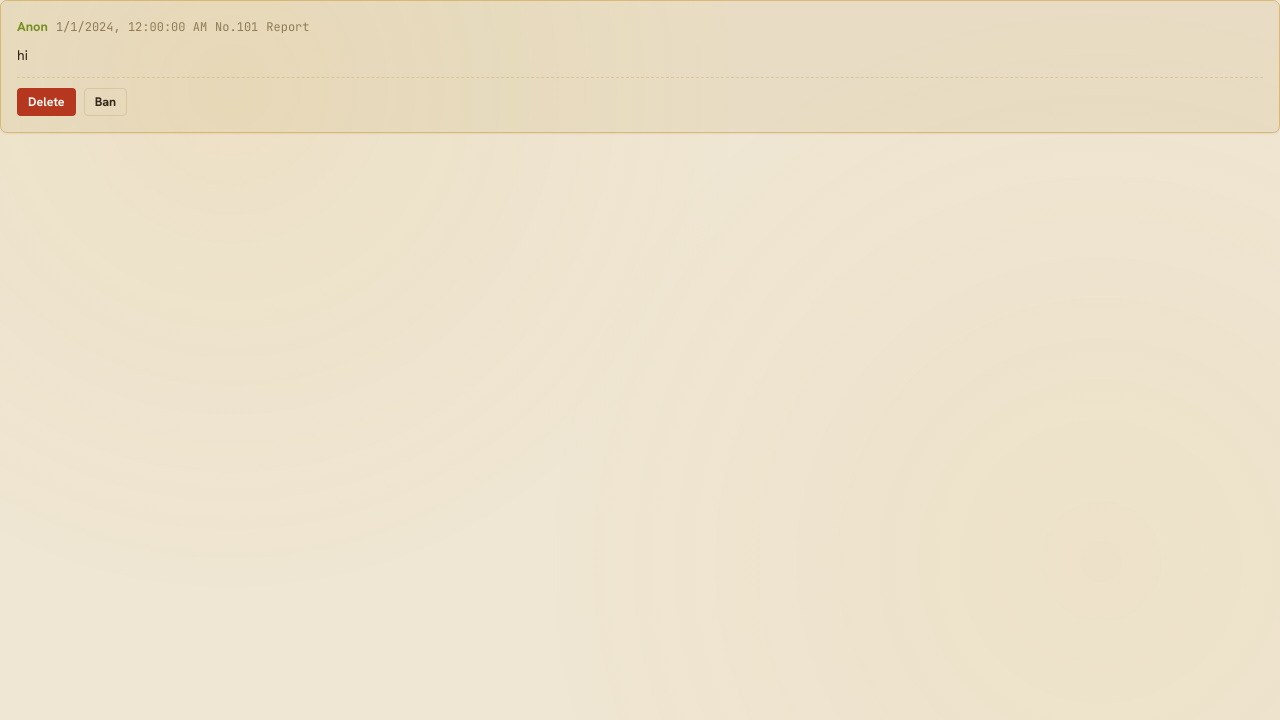
it: PostArticle › shows the api detail when deleting fails
This screenshot has width=1280, height=720.
Click the button "Delete". click: coordinates (46, 102)
box: [17,88,76,116]
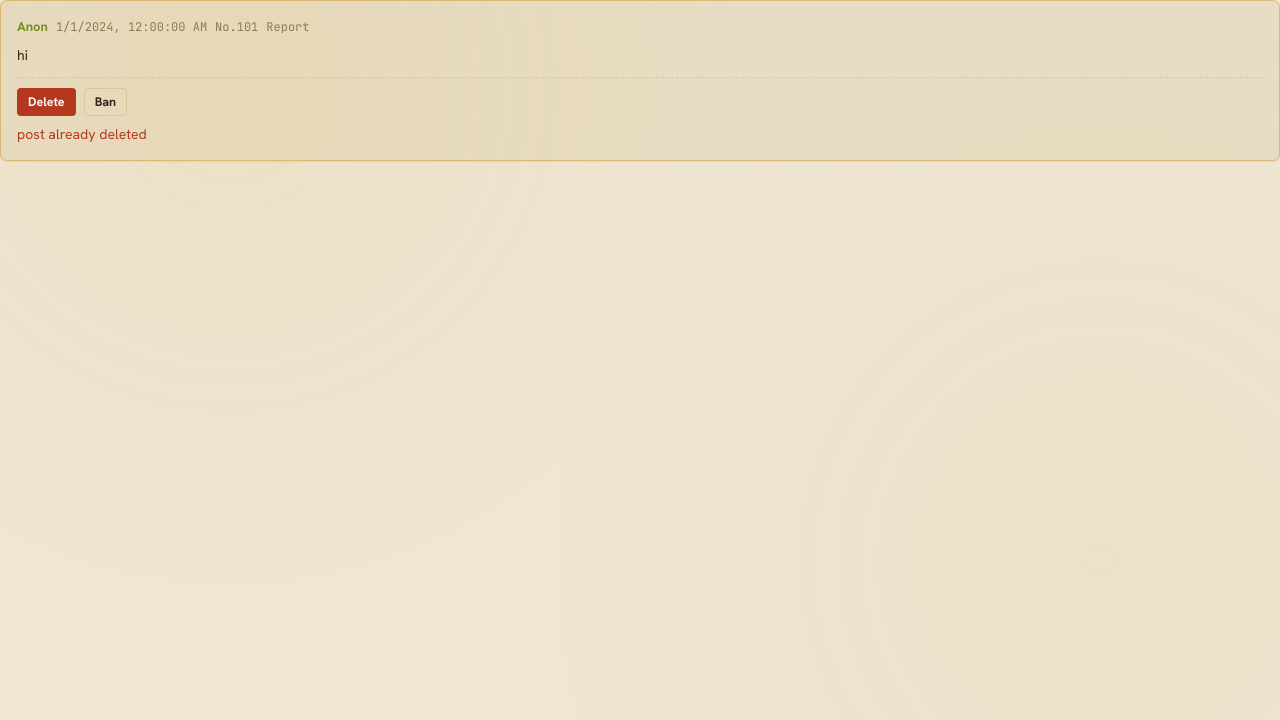
Result: the text "post already deleted" is shown at [17,125,147,143]
